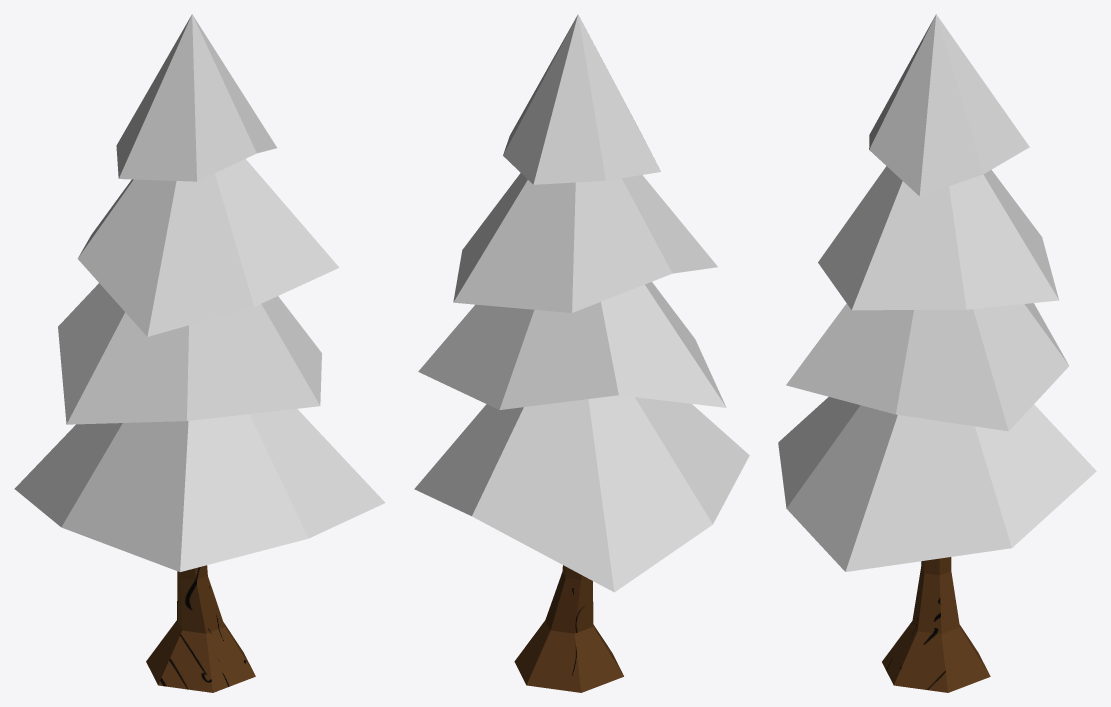
File: SM_Tree_1.fbx
3 views of the same model, side by side, from view 1: azimuth 30°, elevation 25°; view 2: azimuth 150°, elevation 25°; view 3: azimuth 270°, elevation 25° (orthographic).
Parts seen in each view (by area): view 1: SM_Tree_1; view 2: SM_Tree_1; view 3: SM_Tree_1.
Part boxes in pixels (x1=…): SM_Tree_1: x1=14, y1=14, x2=385, y2=692; SM_Tree_1: x1=414, y1=14, x2=749, y2=692; SM_Tree_1: x1=778, y1=14, x2=1096, y2=692.
Bounding box in the file's own units: 6.98 × 6.83 × 15.39.
